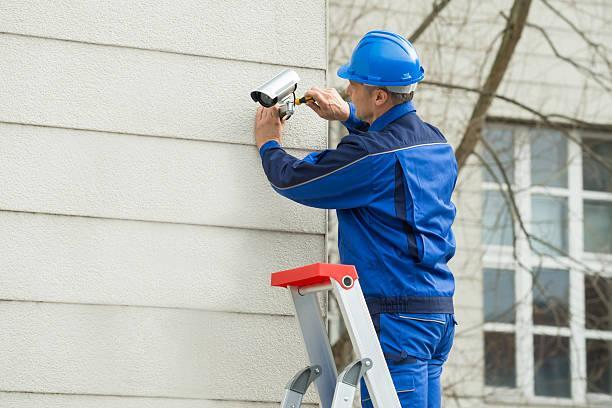camera: (210, 45, 346, 146)
